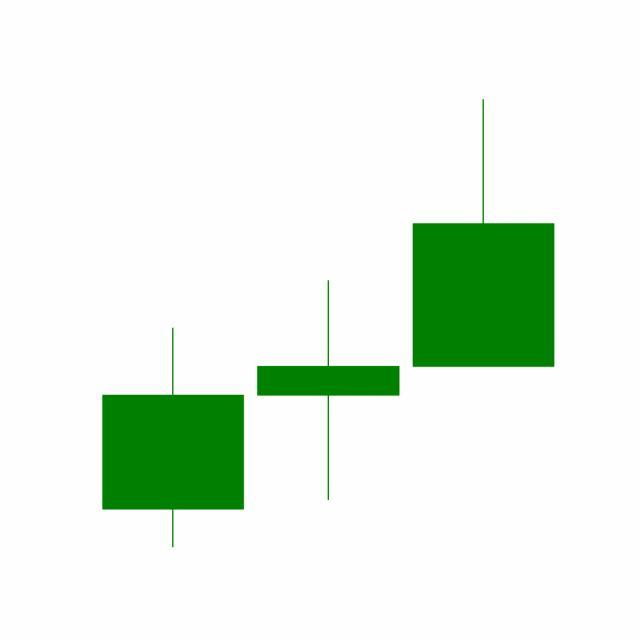Spinning Top: (250, 278, 407, 503)
